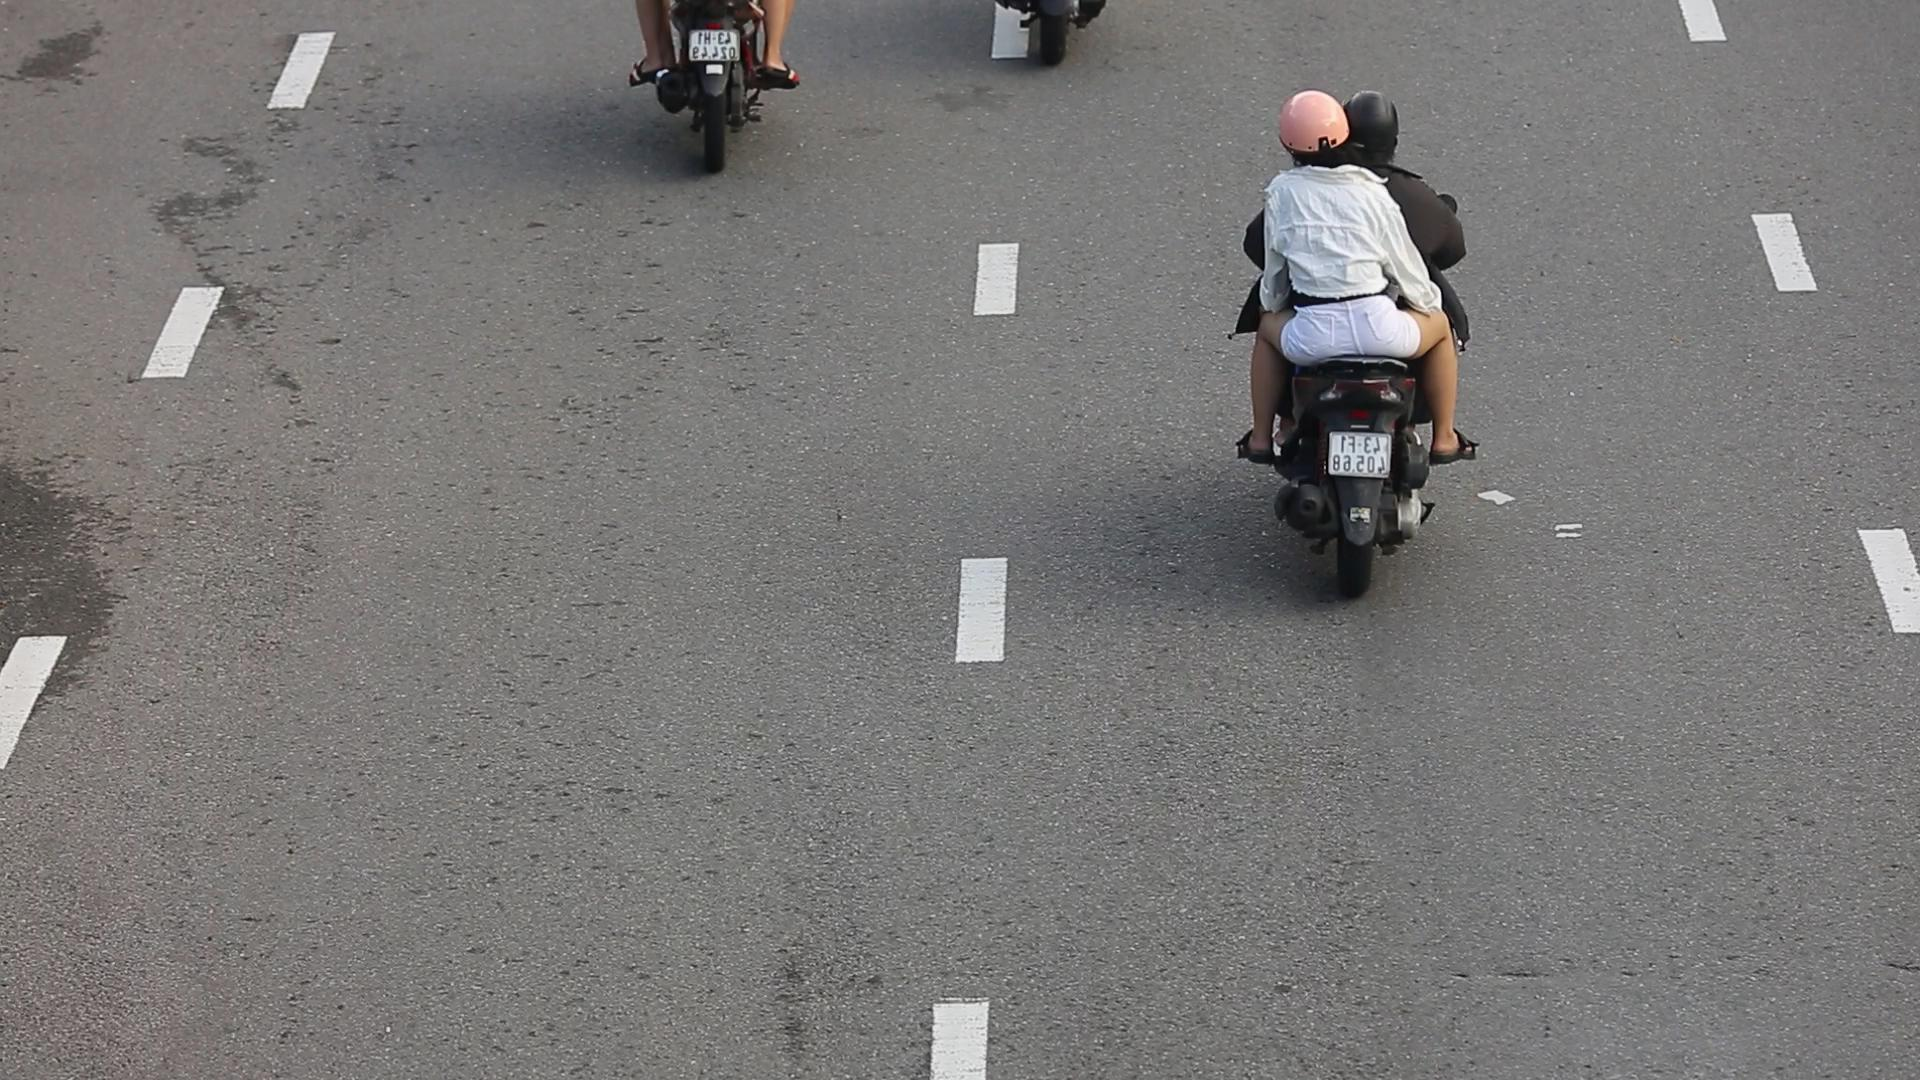motobike: (1217, 75, 1494, 604)
